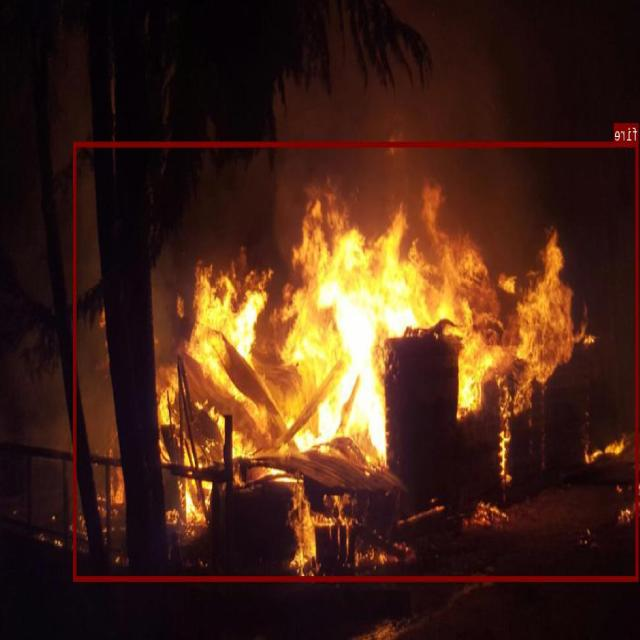fire: (74, 141, 639, 580)
